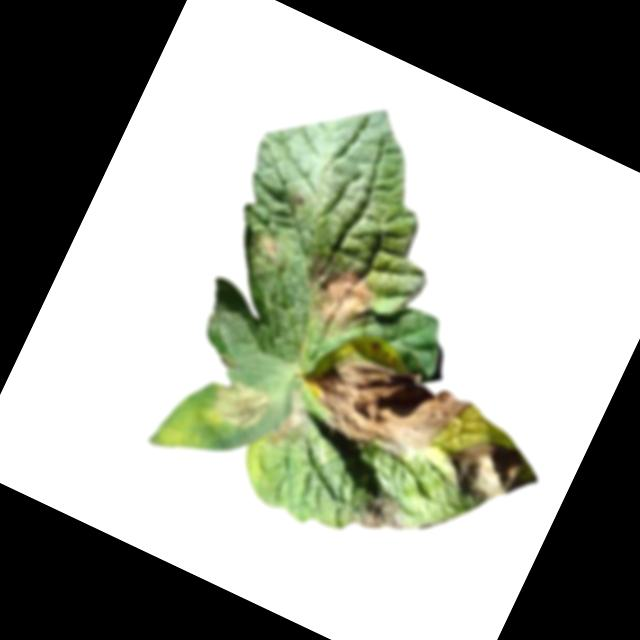Late_blight: (290, 334, 472, 479), (436, 423, 545, 522), (290, 246, 387, 343), (206, 369, 277, 438), (261, 384, 320, 460), (343, 483, 412, 546), (250, 228, 287, 266)
